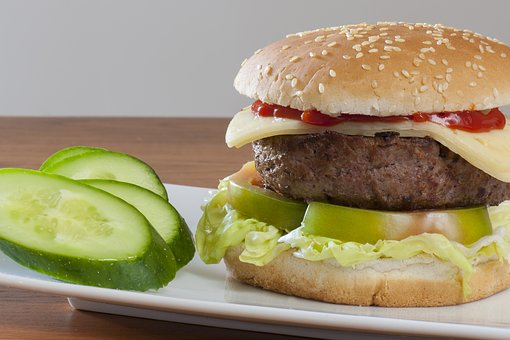hamburger: (224, 18, 510, 327)
